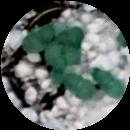Basil: (37, 41, 81, 65), (27, 22, 56, 52), (66, 72, 96, 98), (98, 68, 123, 96), (53, 26, 89, 44), (53, 59, 64, 86)
